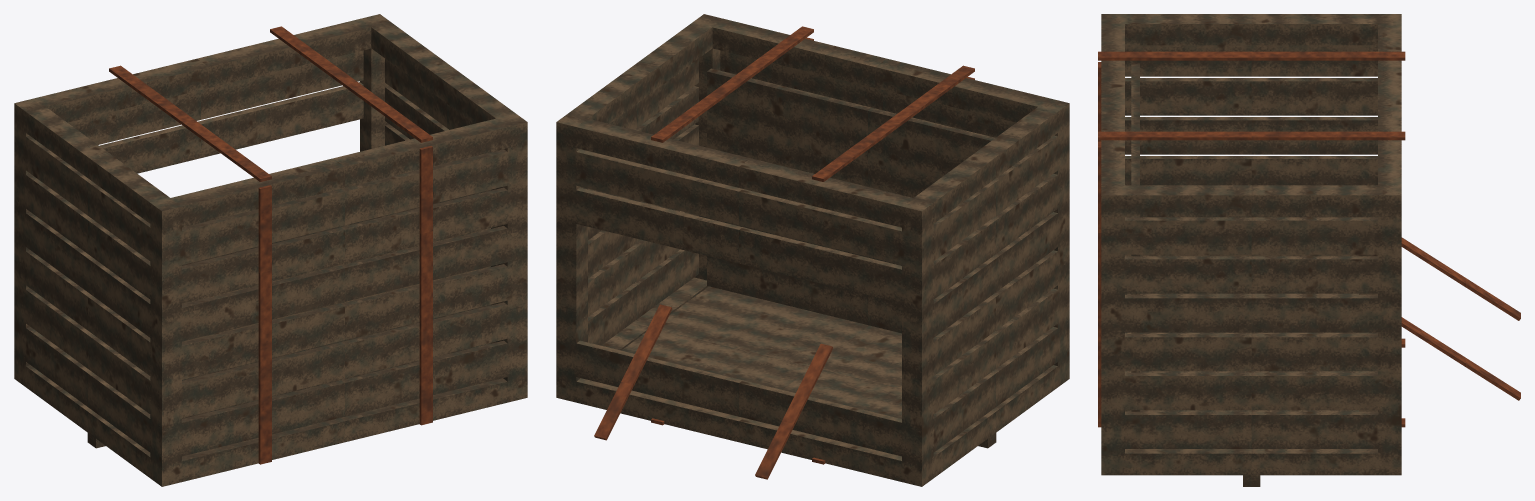
The model's file is prop_dropped_crate.glb.
3 views of the same model, side by side, from view 1: azimuth 30°, elevation 25°; view 2: azimuth 150°, elevation 25°; view 3: azimuth 270°, elevation 25° (orthographic).
Visible parts, largest first — view 1: dropped_wood, dropped_straps; view 2: dropped_wood, dropped_straps; view 3: dropped_wood, dropped_straps.
Boxes of the visible parts, x1,y1,x2,y2 form: dropped_wood: (14, 14, 527, 486); dropped_straps: (109, 26, 432, 464); dropped_wood: (556, 14, 1069, 486); dropped_straps: (594, 26, 974, 479); dropped_wood: (1101, 14, 1401, 475); dropped_straps: (1098, 51, 1520, 427).
Size of the model in its own units: 1 by 0.781 by 0.9859.
2 materials, 2 textured.
